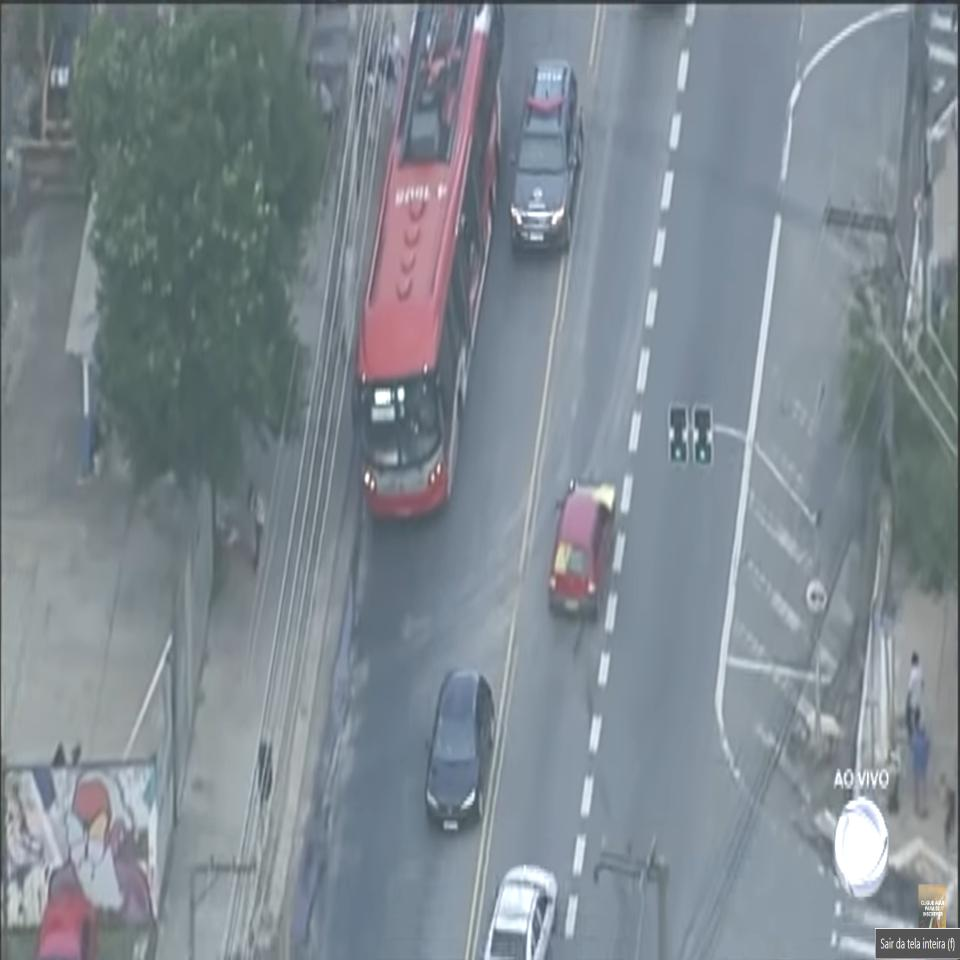viatura: (505, 56, 586, 260)
